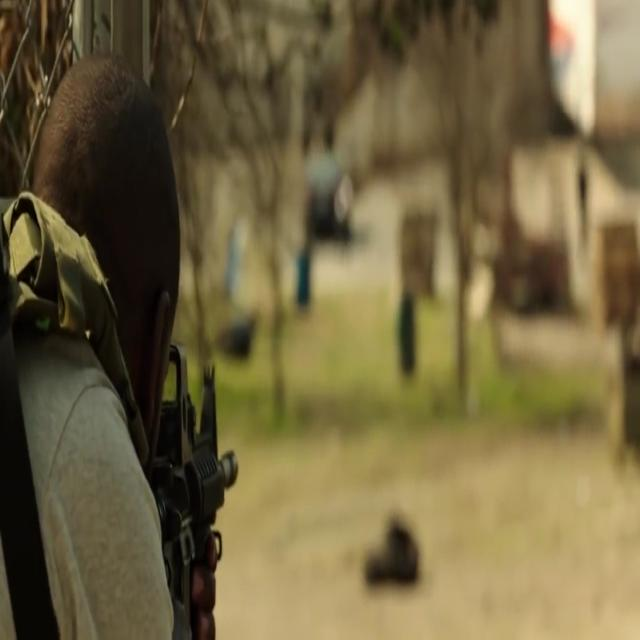Weapon: (161, 320, 271, 640)
